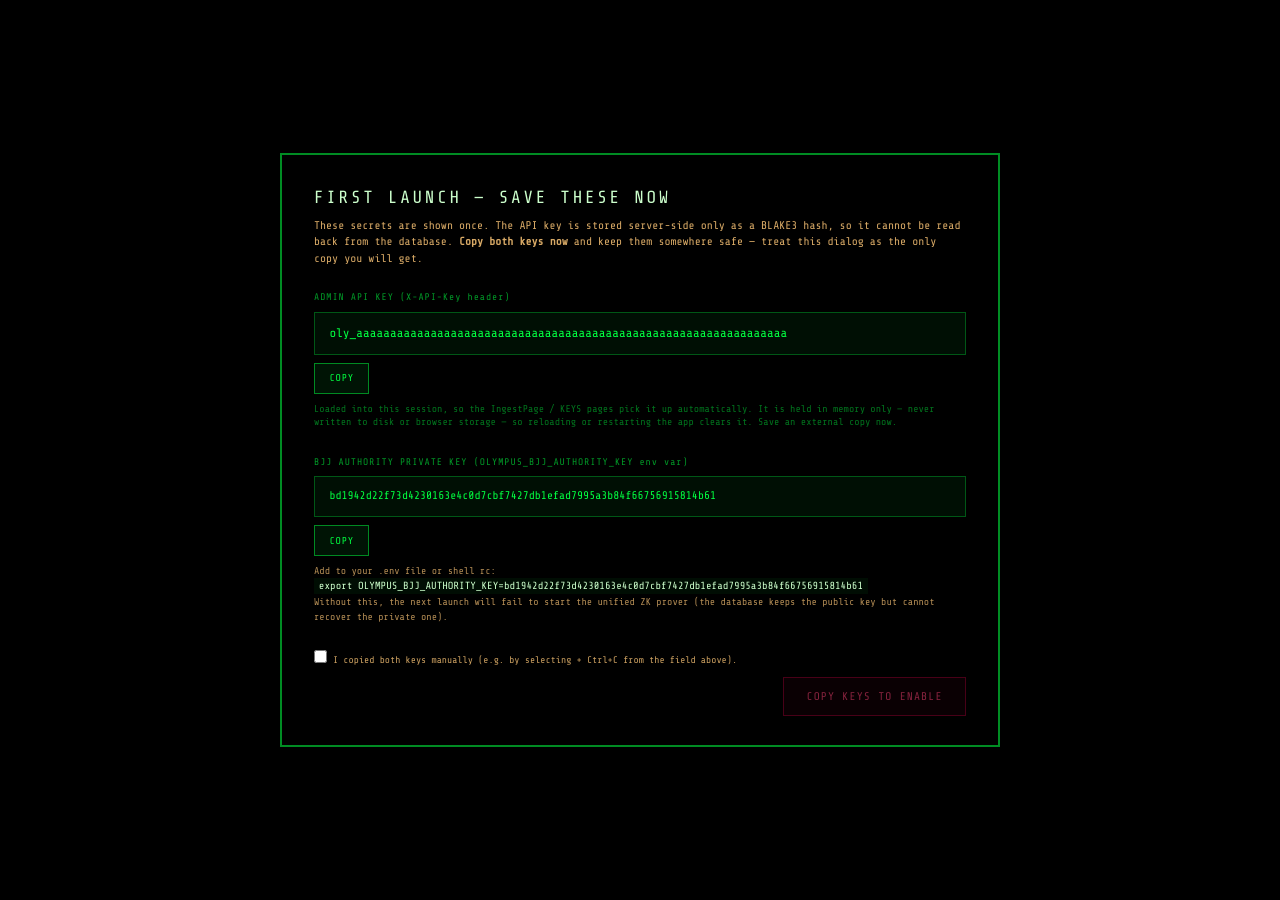
<InitialSecretsModal> › ticking the manual-ack checkbox unblocks the dismiss button
Expected: the heading "FIRST LAUNCH — SAVE THESE NOW" is shown, [314,187,671,207]
Click the checkbox: (320, 656) [314,650,327,663]
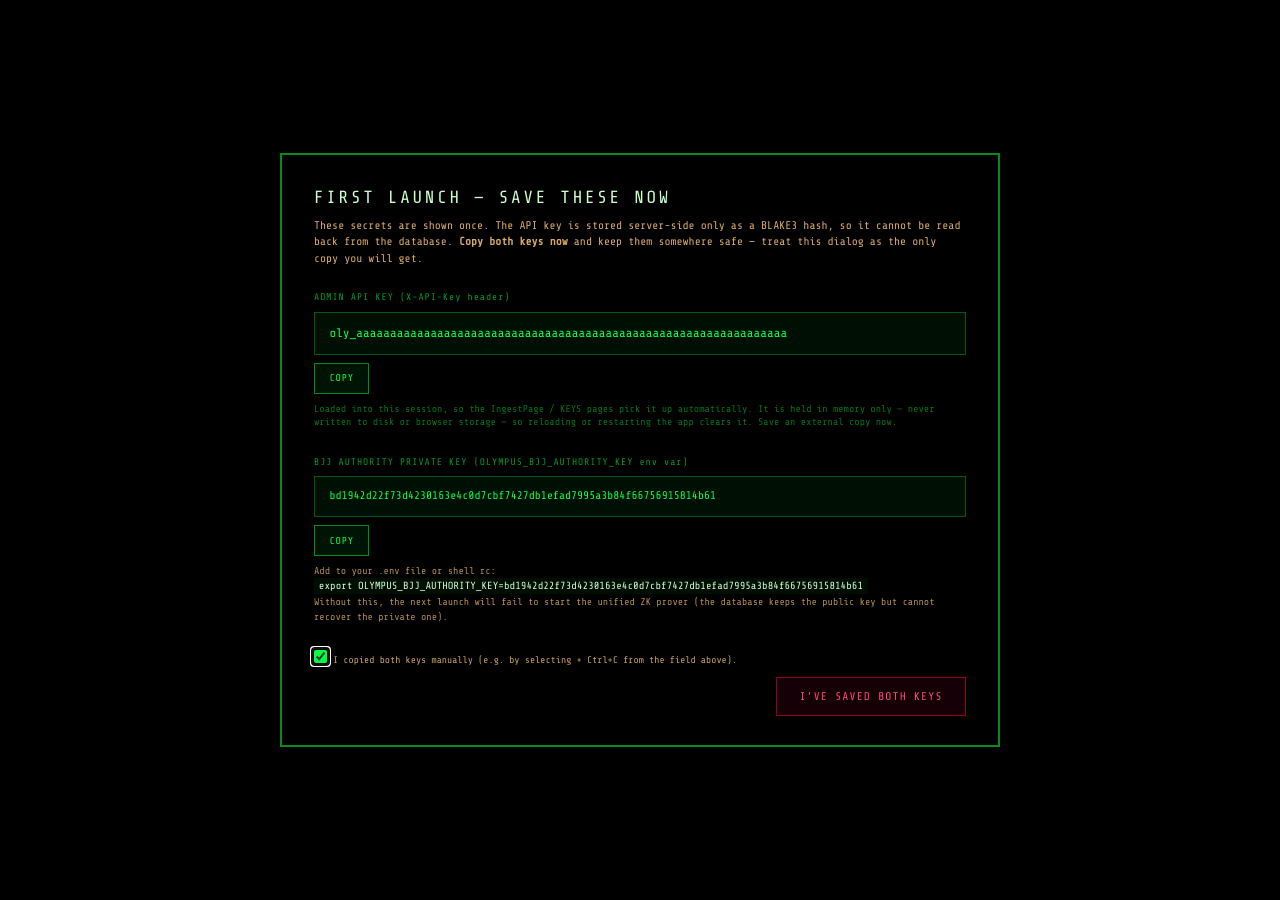
Expected: the button "I'VE SAVED BOTH KEYS" is enabled, [776,678,966,716]
